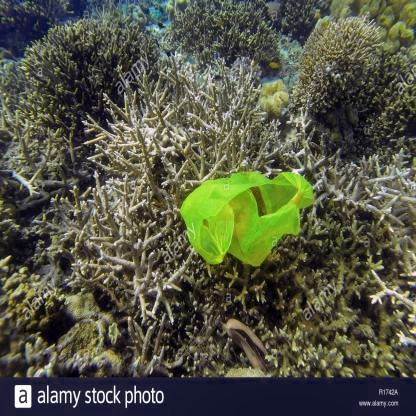pbag: (176, 162, 316, 274)
